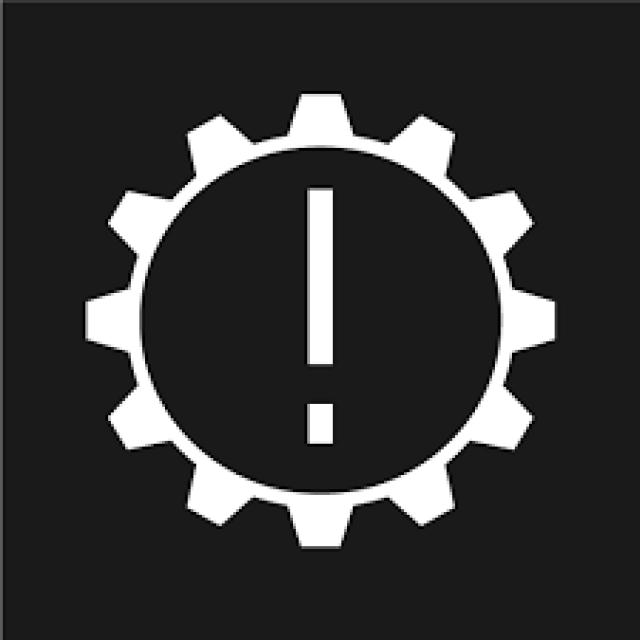kontrolka: (60, 68, 582, 560)
